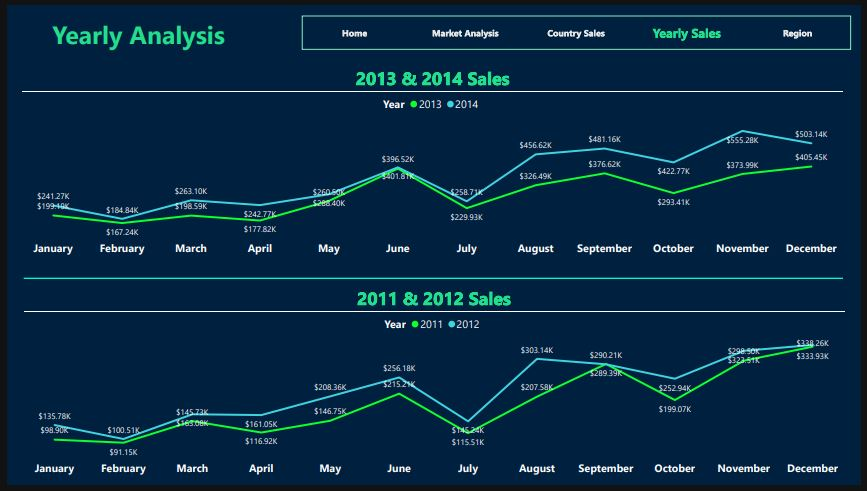

Layout of this report page (visuals, bound fields, positions):
{"tool":"powerbi","page":{"name":"Yearly Sales","canvas":[1280,720],"ordinal":3},"visuals":[{"type":"lineChart","title":"2011 & 2012 Sales","fields":{"Y":["Sum(Sales Data.Sales)"],"Category":["Sales Data.Order_Date.Variation.Date Hierarchy.Year","Sales Data.Order_Date.Variation.Date Hierarchy.Month"],"Series":["Sales Data.Order_Date.Variation.Date Hierarchy.Year"]},"box":[24.6,420.7,1230.4,294.9],"z":0},{"type":"textbox","box":[0,14.3,395.1,76.9],"z":1000},{"type":"lineChart","title":"2013 & 2014 Sales","fields":{"Y":["Sum(Sales Data.Sales)"],"Category":["Sales Data.Order_Date.Variation.Date Hierarchy.Year","Sales Data.Order_Date.Variation.Date Hierarchy.Month"],"Series":["Sales Data.Order_Date.Variation.Date Hierarchy.Year"]},"box":[23.1,91.1,1230.4,294.9],"z":2000},{"type":"shape","box":[24.6,399,1228.9,21.7],"z":3000},{"type":"pageNavigator","box":[442.4,15.9,822.7,50.6],"z":3001}]}

Visuals, with their boxes in screenshot pixels (x1, y1, x2, y2), scaled from the page's 1280x720 canvas onto the 867x491 screenshot:
"2011 & 2012 Sales" lineChart: bbox=(17, 287, 850, 488)
textbox: bbox=(0, 10, 268, 62)
"2013 & 2014 Sales" lineChart: bbox=(16, 62, 849, 263)
shape: bbox=(17, 272, 849, 287)
pageNavigator: bbox=(300, 11, 857, 45)
